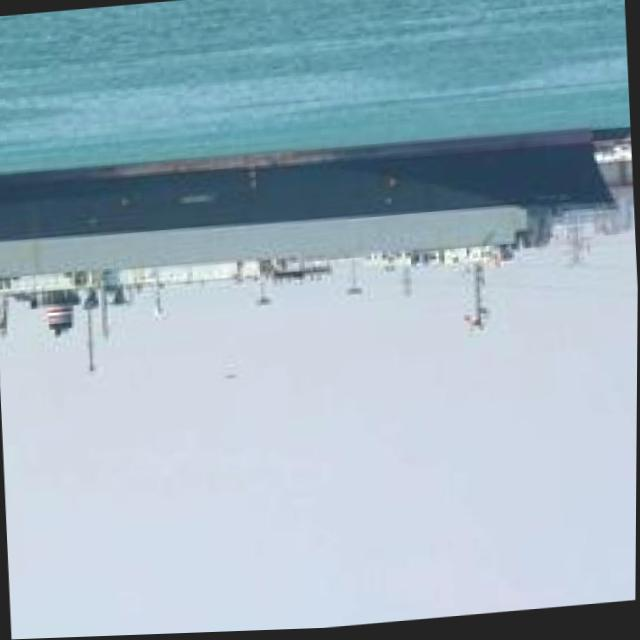ship2: (0, 132, 619, 376)
